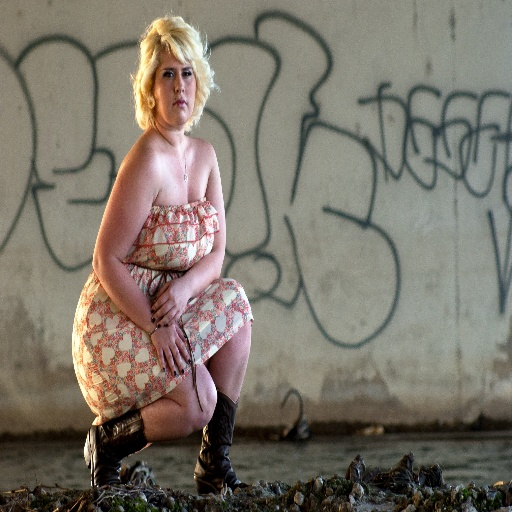hand: (147, 319, 191, 377), (141, 283, 188, 328)
